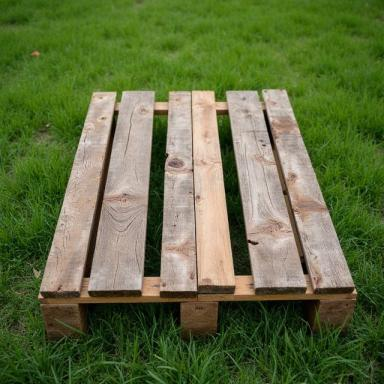pallet: (38, 89, 358, 341)
